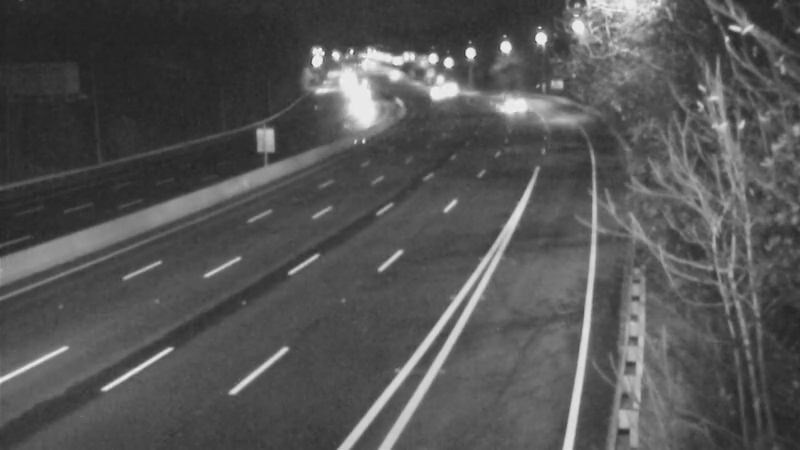vehicle: (424, 62, 474, 112), (408, 68, 458, 118), (485, 79, 535, 129)
